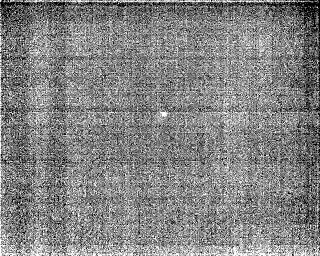BIRD: (158, 108, 171, 121)
